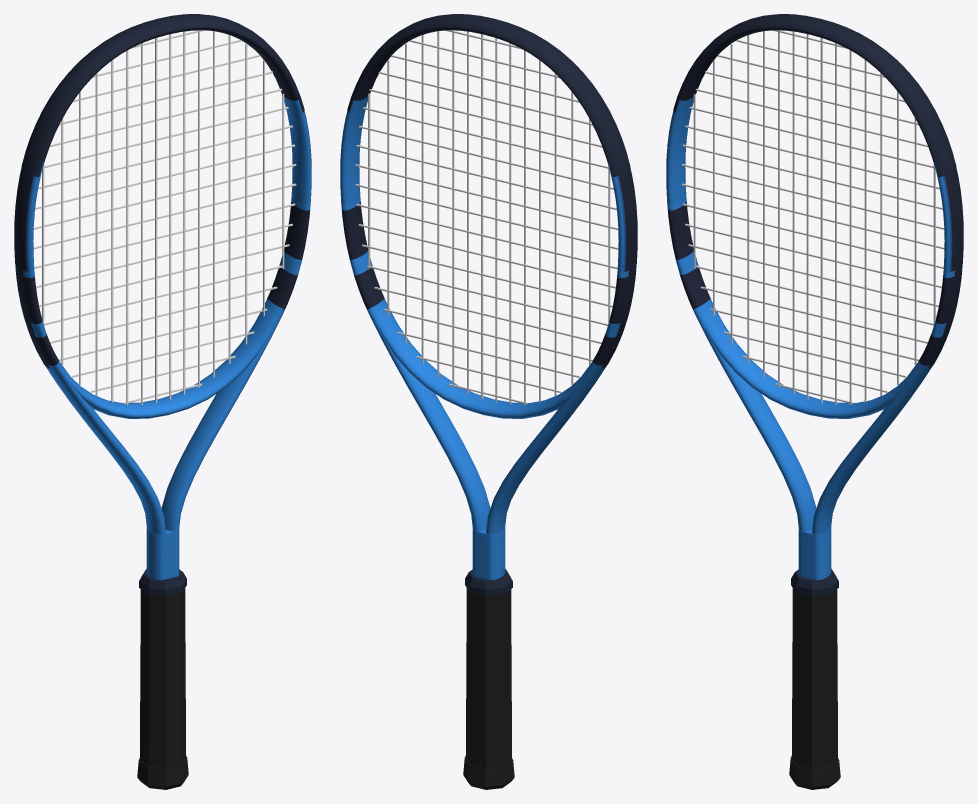
File: babolat-pure-drive-107-2021.glb
3 views of the same model, side by side, from view 1: azimuth 30°, elevation 25°; view 2: azimuth 150°, elevation 25°; view 3: azimuth 330°, elevation 25° (orthographic).
Parts seen in each view (by area): view 1: frame, strings_mains, strings_crosses, grip, bumper, grommets, butt_cap, collar; view 2: frame, strings_mains, strings_crosses, grip, bumper, grommets, butt_cap, collar; view 3: frame, strings_mains, strings_crosses, grip, bumper, grommets, butt_cap, collar.
Boxes of the visible parts, x1,y1,x2,y2 form: frame: (14,27,311,580); strings_mains: (42,30,284,405); strings_crosses: (33,30,296,404); grip: (139,588,186,768); bumper: (21,14,304,177); grommets: (15,169,49,368); butt_cap: (137,757,188,789); collar: (139,569,186,596); frame: (340,27,637,580); strings_mains: (368,30,610,404); strings_crosses: (355,30,618,404); grip: (465,588,512,768); bumper: (347,14,630,177); grommets: (602,169,636,368); butt_cap: (463,757,514,789); collar: (465,569,512,596); frame: (666,27,963,580); strings_mains: (693,30,935,405); strings_crosses: (681,30,944,404); grip: (791,588,838,768); bumper: (673,14,956,177); grommets: (928,169,962,368); butt_cap: (789,757,840,789); collar: (791,569,838,596).
Size of the model in its own units: 0.2762 by 0.6912 by 0.0396.
